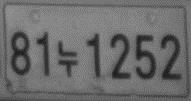1: (84, 32, 102, 78), (35, 30, 51, 78)
2: (108, 31, 132, 80), (159, 34, 183, 81)
5: (134, 32, 157, 81)
8: (10, 30, 31, 76)
누: (56, 40, 79, 78)
